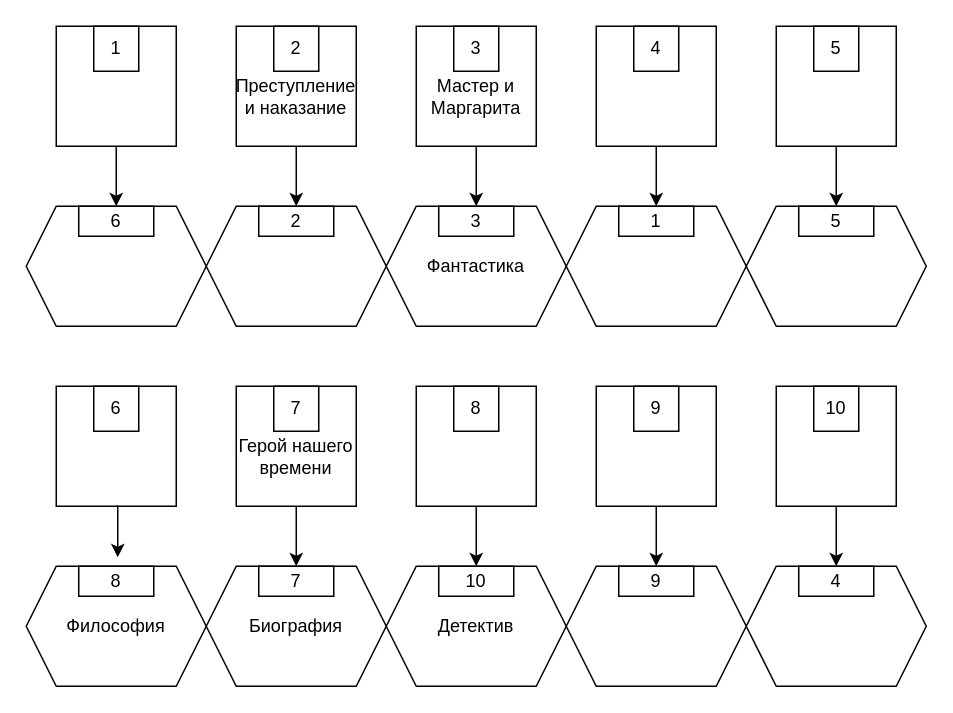
Some shapes in this 953 by 713 pixel diagram are drawn without their labels. The shapes that lost their labels are listed below. From the top down, each one's box as (x1, y1, x2, y2) in pixels, then its label:
(55, 25, 176, 146): Война и мир
(595, 25, 716, 146): Анна Каренина
(775, 25, 896, 146): Евгений Онегин
(25, 205, 206, 326): Исторический
(205, 205, 386, 326): Драма
(565, 205, 746, 326): Роман
(745, 205, 926, 326): Приключения
(55, 385, 176, 506): Идиот
(415, 385, 536, 506): Мёртвые души
(595, 385, 716, 506): Отцы и дети
(775, 385, 896, 506): Обломов
(565, 565, 746, 686): Научная литература
(745, 565, 926, 686): Поэзия
